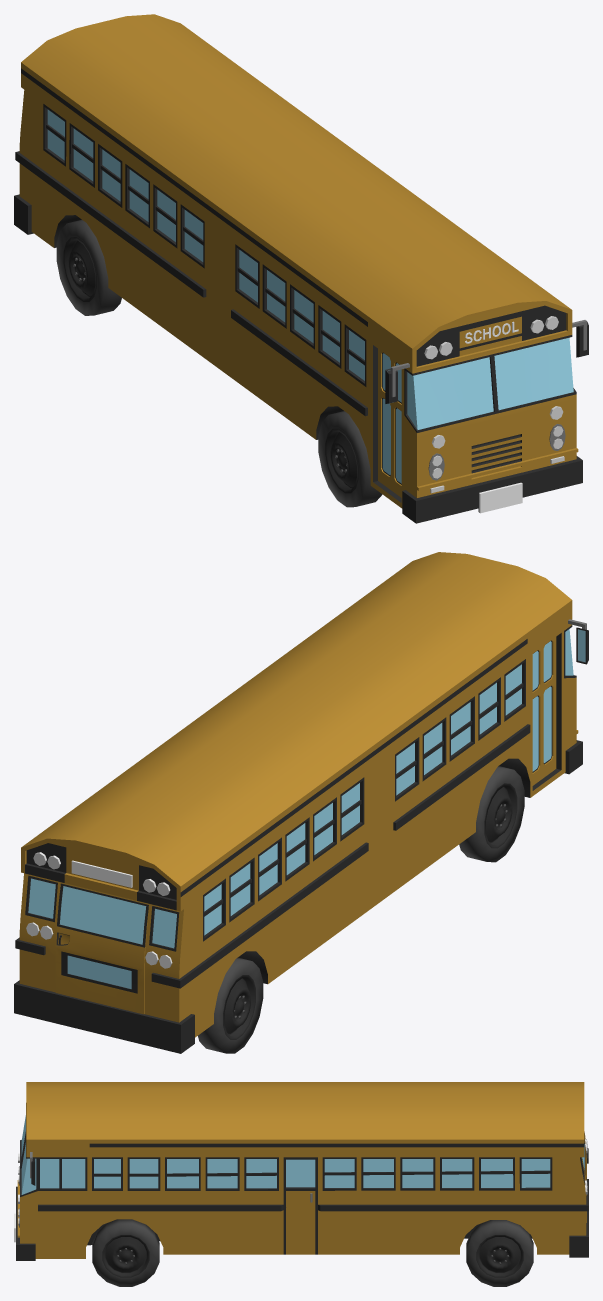
The model's file is SchoolBus.fbx.
The picture shows the model from 3 angles, top to bottom: view 1: azimuth 30°, elevation 25°; view 2: azimuth 150°, elevation 25°; view 3: azimuth 270°, elevation 25°; orthographic projection. The views are drawn at different scales.
Parts seen in each view (by area): view 1: Bus-Body, Bus-WheelBk.R, Bus-WheelFt.R; view 2: Bus-Body, Bus_BkDoor, Bus-WheelBk.R, Bus-WheelFt.R; view 3: Bus-Body, Bus-WheelFt.L, Bus-WheelBk.L.
Part boxes in pixels (box(x1,y1,x2,y2)): Bus-Body: box(14, 14, 588, 523); Bus-WheelBk.R: box(56, 220, 121, 315); Bus-WheelFt.R: box(318, 411, 382, 507); Bus-Body: box(14, 552, 588, 1053); Bus_BkDoor: box(55, 883, 148, 1014); Bus-WheelBk.R: box(198, 957, 263, 1053); Bus-WheelFt.R: box(459, 766, 524, 862); Bus-Body: box(14, 1082, 588, 1260); Bus-WheelFt.L: box(92, 1219, 159, 1286); Bus-WheelBk.L: box(466, 1220, 533, 1286).
Bounding box in the file's own units: 224 × 241 × 775.
